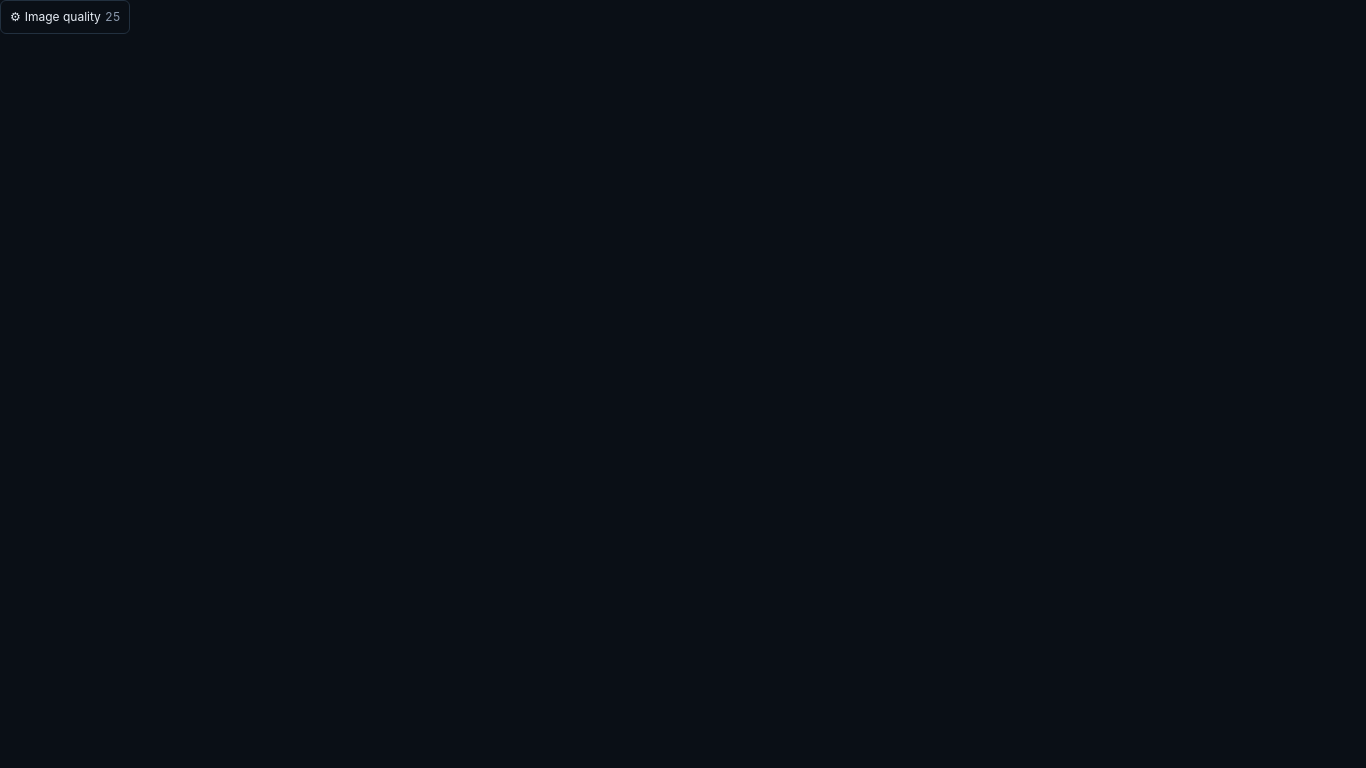
Test: QualityControl › keeps preset, slider and number input in sync without touching the live console
Click the button "⚙ Image quality 25" at (65, 17), box left=0, top=0, right=130, bottom=34
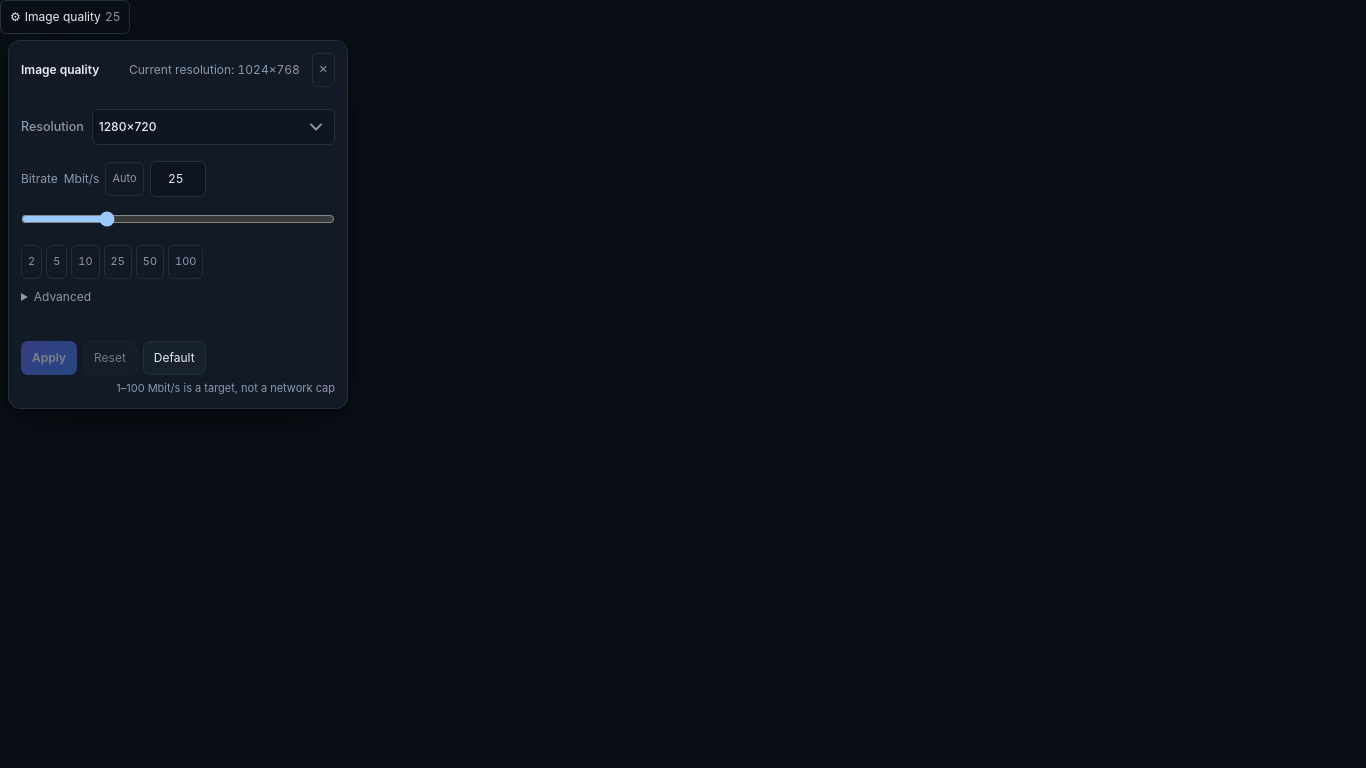
Click the button "50" at (150, 262), box left=136, top=245, right=164, bottom=279
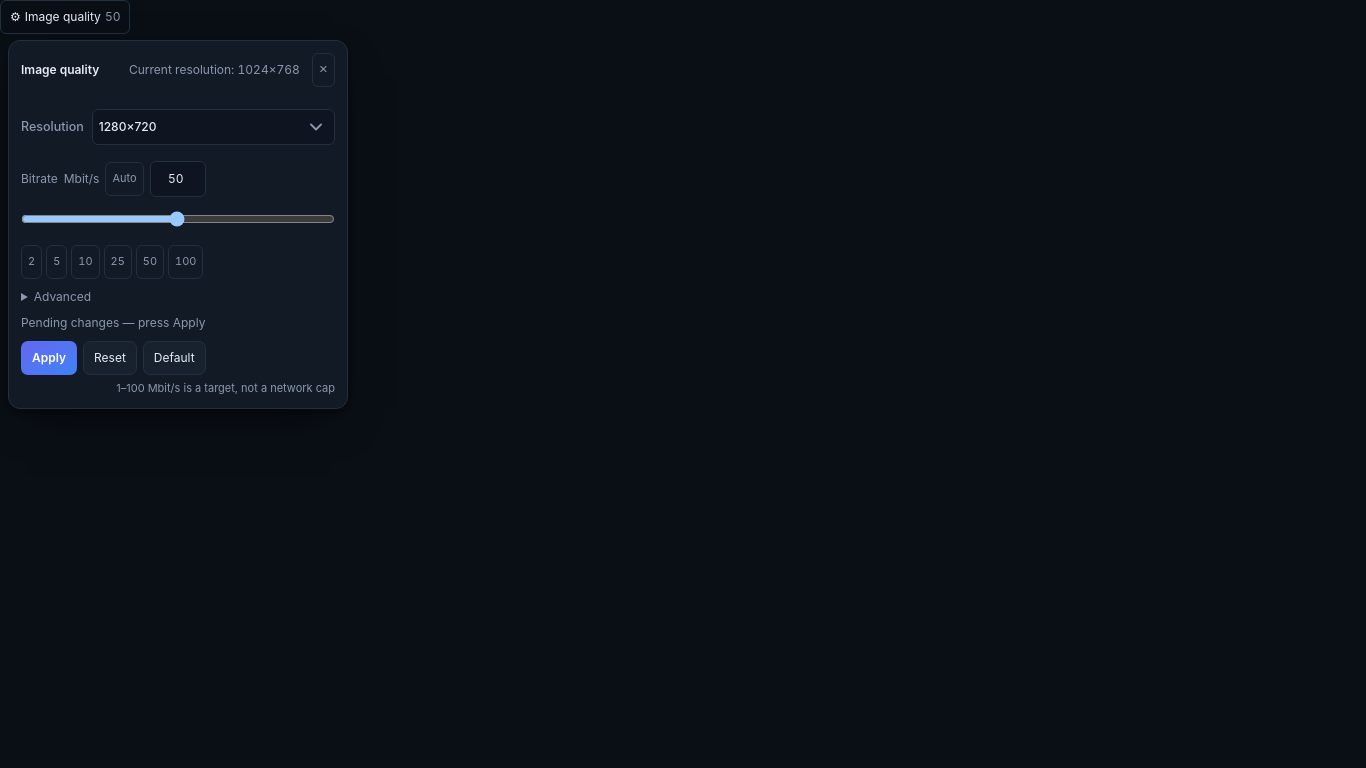
Now the slider named "Bitrate" holds "50"
Now the number field named "Bitrate" holds "50", box left=150, top=161, right=206, bottom=197
Set the slider named "Bitrate" to "37" at (137, 219), box left=21, top=201, right=335, bottom=237
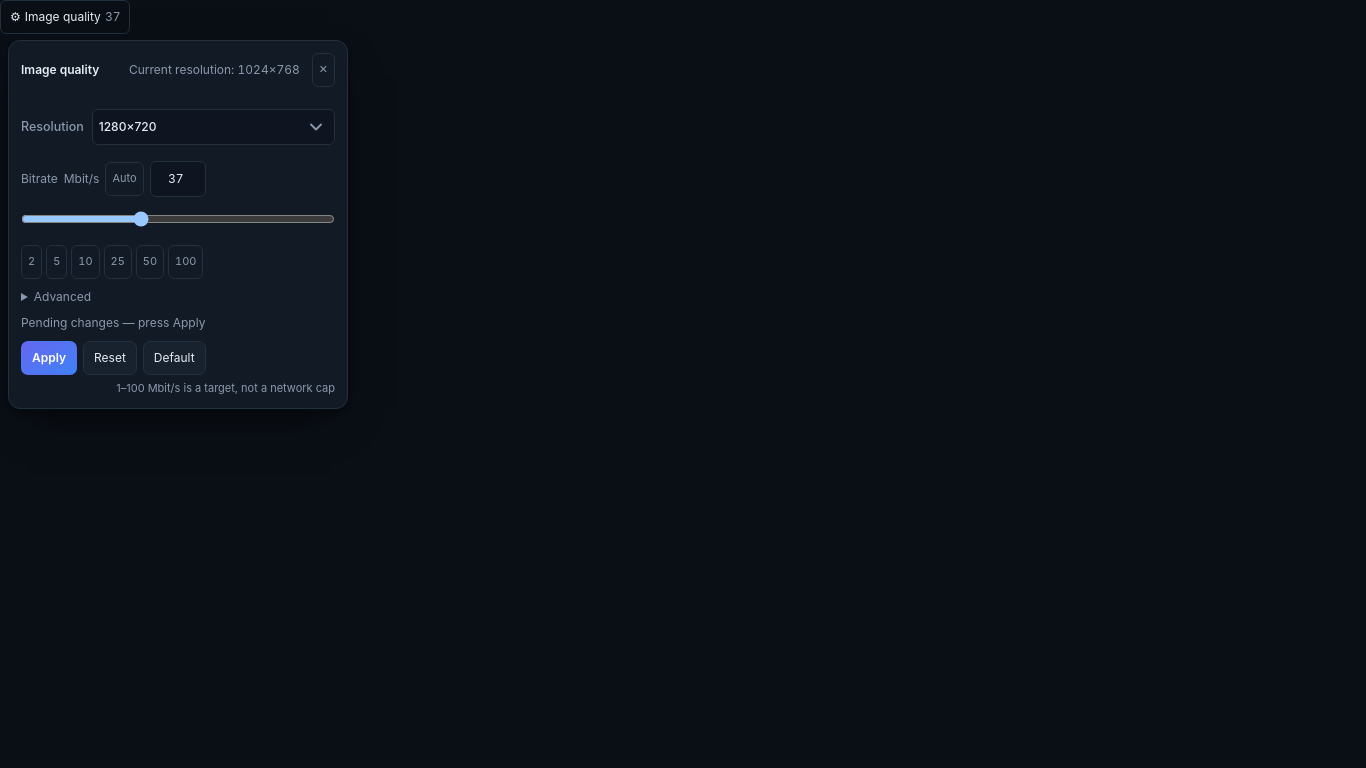
Now the number field named "Bitrate" holds "37"
Replace the text in the number field named "Bitrate" with "42" at (178, 179), box left=150, top=161, right=206, bottom=197
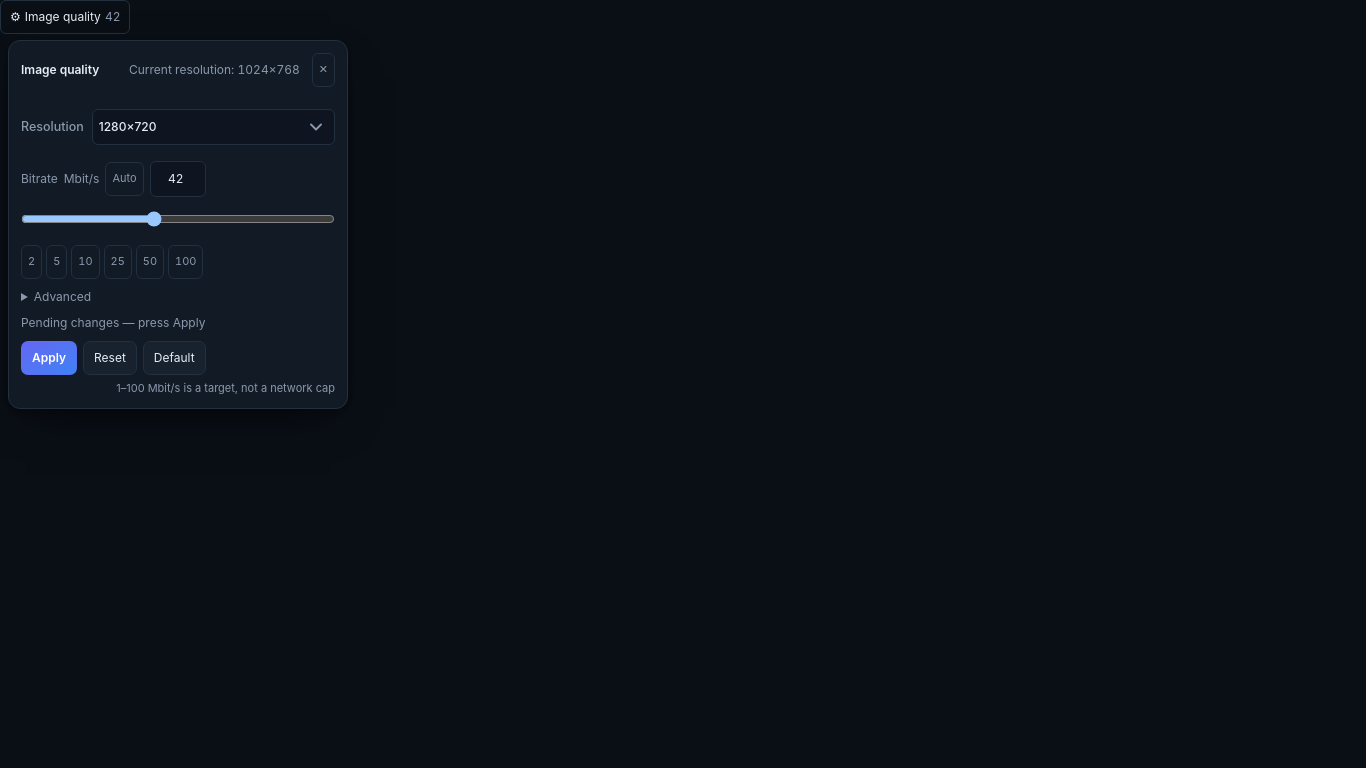
Now the text "Pending changes — press Apply" is shown, box left=21, top=315, right=205, bottom=330
Now the slider named "Bitrate" holds "42", box left=21, top=201, right=335, bottom=237
